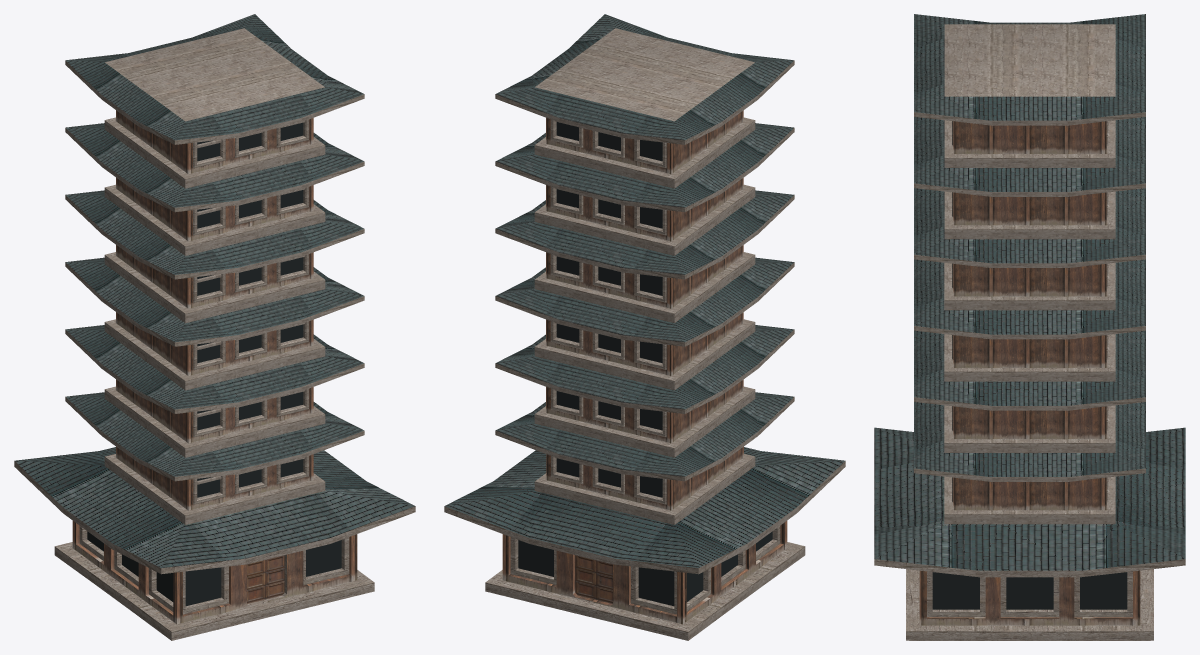
Rendered from BinaAsia(1).FBX.
3 views of the same model, side by side, from view 1: azimuth 30°, elevation 25°; view 2: azimuth 150°, elevation 25°; view 3: azimuth 270°, elevation 25° (orthographic). The views are drawn at different scales.
Parts seen in each view (by area): view 1: Alt Kat, Üst Kat005, Üst Kat002, Üst Kat004, Üst Kat001, Üst Kat003, Üst Kat; view 2: Alt Kat, Üst Kat005, Üst Kat002, Üst Kat004, Üst Kat001, Üst Kat, Üst Kat003; view 3: Alt Kat, Üst Kat005, Üst Kat, Üst Kat002, Üst Kat004, Üst Kat003, Üst Kat001.
Boxes of the visible parts, x1,y1,x2,y2 form: Alt Kat: [14, 447, 415, 640]; Üst Kat005: [65, 14, 364, 188]; Üst Kat002: [65, 257, 364, 390]; Üst Kat004: [65, 123, 364, 255]; Üst Kat001: [65, 325, 364, 457]; Üst Kat003: [65, 190, 364, 323]; Üst Kat: [65, 392, 364, 524]; Alt Kat: [444, 447, 845, 640]; Üst Kat005: [495, 14, 794, 188]; Üst Kat002: [495, 257, 794, 390]; Üst Kat004: [495, 123, 794, 255]; Üst Kat001: [495, 325, 794, 457]; Üst Kat: [495, 392, 794, 524]; Üst Kat003: [495, 190, 794, 323]; Alt Kat: [874, 427, 1185, 640]; Üst Kat005: [914, 14, 1145, 167]; Üst Kat: [914, 402, 1145, 524]; Üst Kat002: [914, 259, 1145, 381]; Üst Kat004: [914, 117, 1145, 239]; Üst Kat003: [914, 188, 1145, 310]; Üst Kat001: [914, 330, 1145, 452].
Bounding box in the file's own units: 0.141 × 0.2639 × 0.141.
